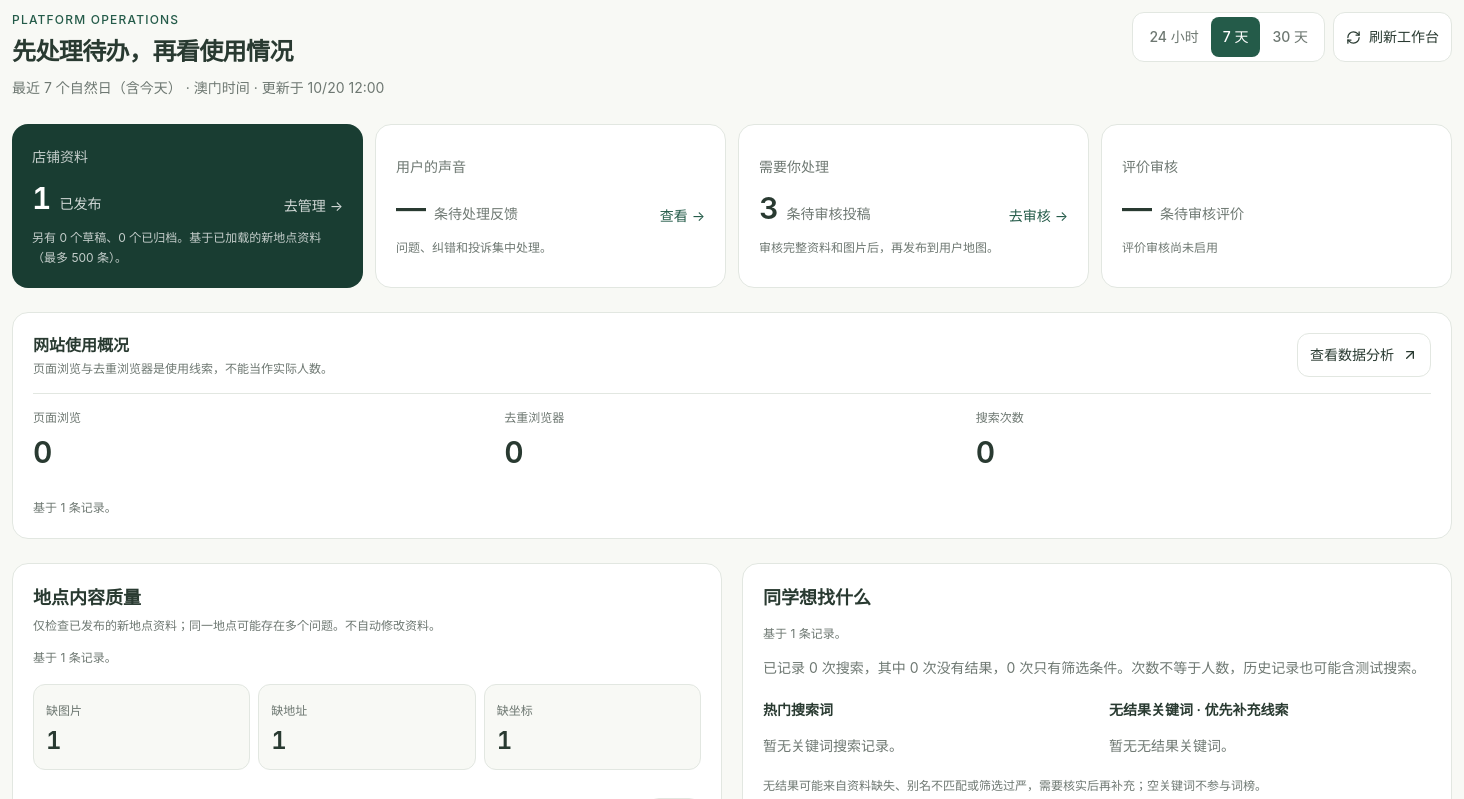
Test case: platform dashboard actions and report states › does not show empty statistics or stale totals after a failed refresh
Click the button "刷新工作台".
click(1392, 37)  # box [1333,12,1452,62]
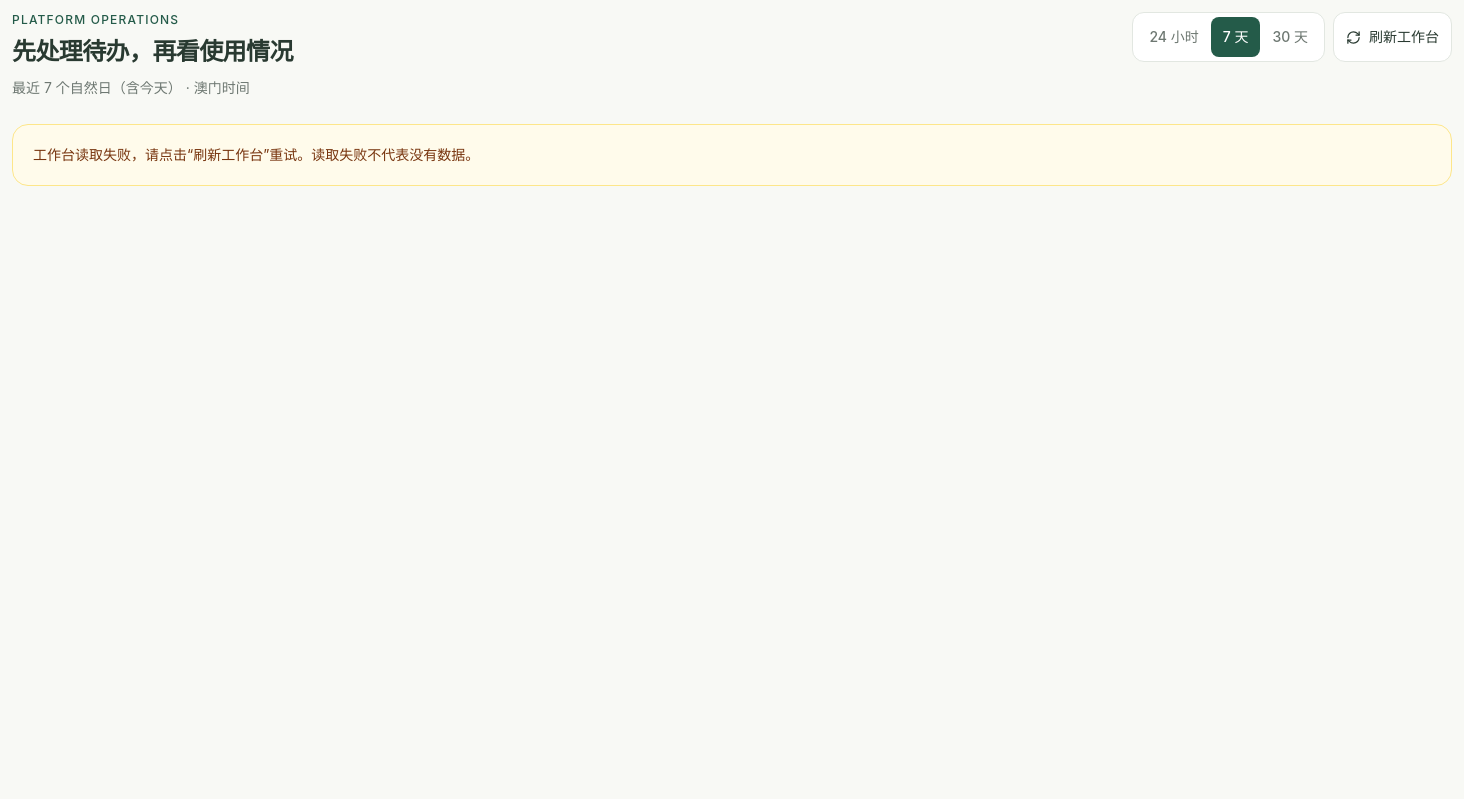
Check: the text "工作台读取失败" is shown, box [33,146,479,163]
